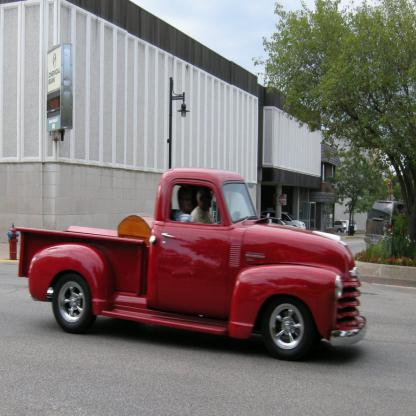Truck: (15, 166, 368, 362)
